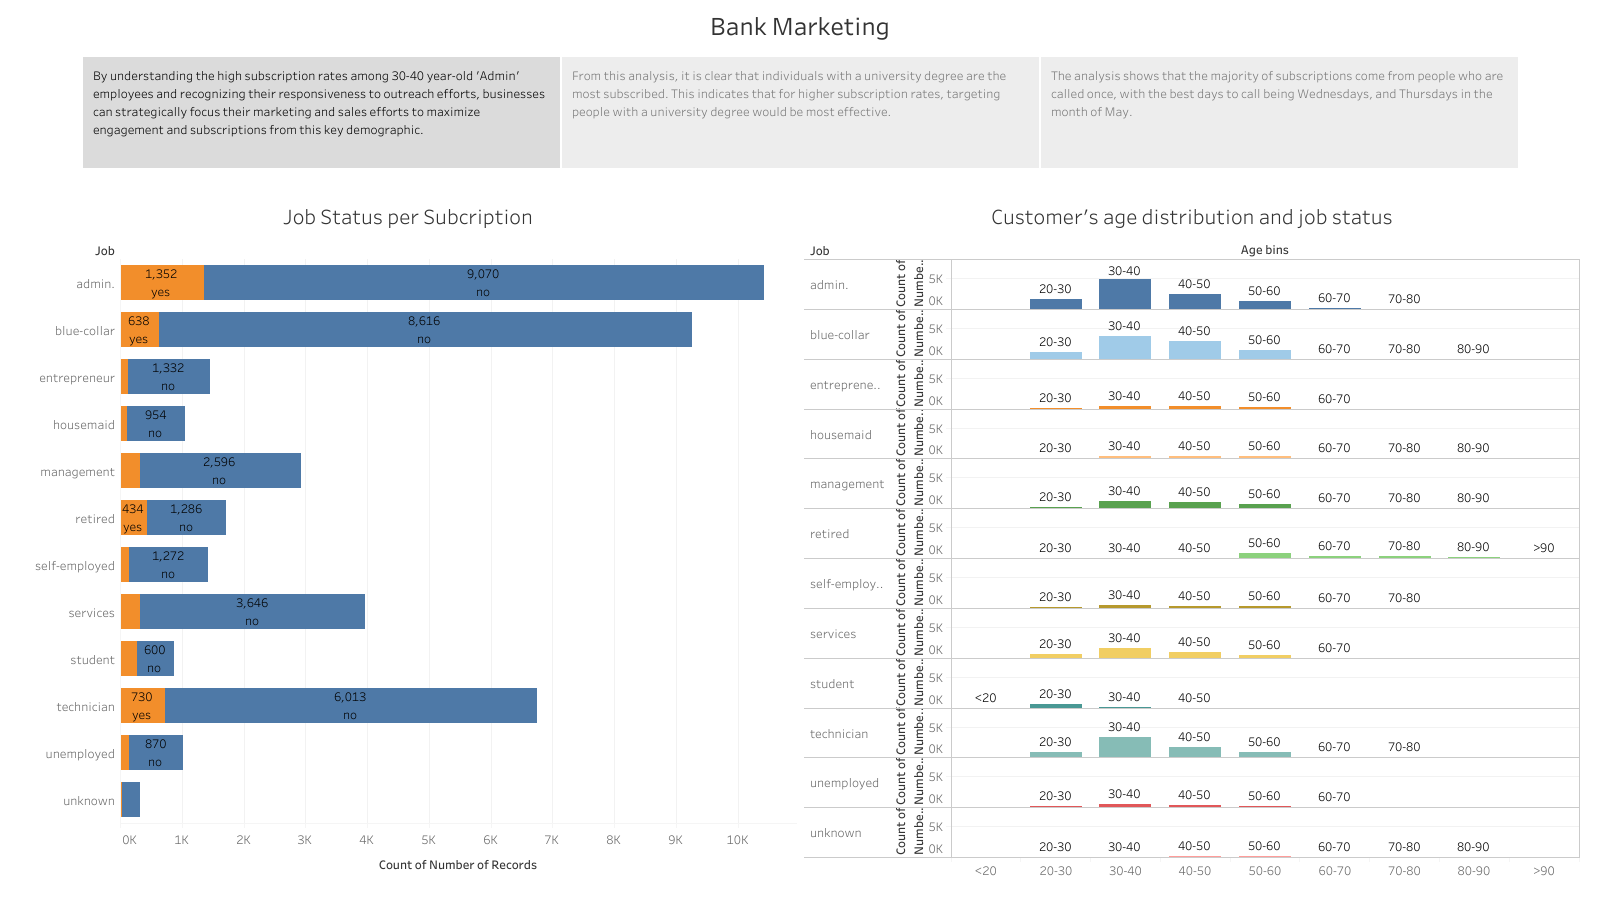

The dashboard page shown, as its layout file describes it:
{"tool":"tableau","page":{"name":"Age and Job","canvas":[1000,1000],"units":"permille","ordinal":0},"visuals":[{"type":"worksheet","title":"Job per Subcription","mark":"Automatic","rows":["job"],"cols":["bank_marketing.csv_6180585A280B49F6AC557D9C3BB4FAD4"],"box":[5.1,8.7,494.9,982.6]},{"type":"worksheet","title":"Customer Age Distribution","mark":"Automatic","rows":["job","bank_marketing.csv_6180585A280B49F6AC557D9C3BB4FAD4"],"cols":["Age (bin)"],"box":[500,8.7,494.9,982.6]}]}

Visuals, with their boxes on the dashboard's canvas, which has no fixed pixel size, in thousandths of its width and height (x1, y1, x2, y2). These are canvas units, not pixel positions in the 1599x899 screenshot, which may show the page scaled, cropped or inside an application window:
"Job per Subcription" worksheet: Rect(5, 9, 500, 991)
"Customer Age Distribution" worksheet: Rect(500, 9, 995, 991)
